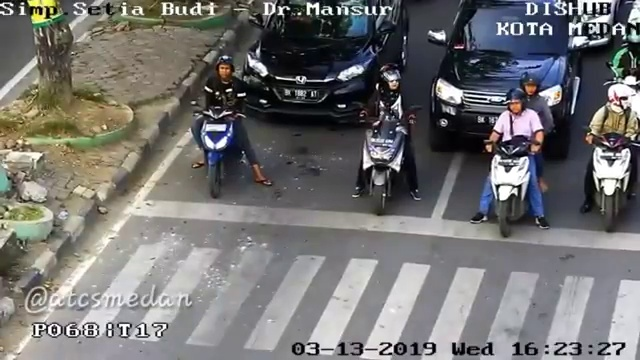car: (422, 1, 581, 165), (239, 2, 408, 131)
motorbike: (472, 77, 556, 241), (353, 58, 427, 209), (193, 54, 267, 196), (580, 89, 640, 238)
